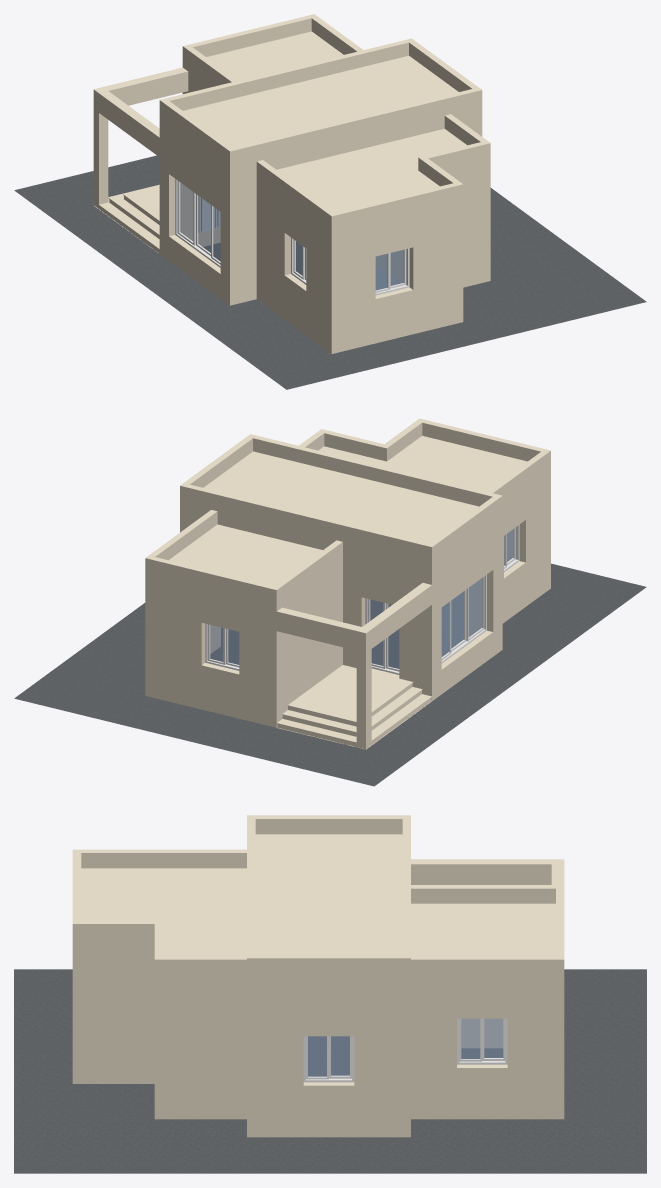
The picture shows the model from 3 angles, top to bottom: view 1: azimuth 30°, elevation 25°; view 2: azimuth 150°, elevation 25°; view 3: azimuth 270°, elevation 25°; orthographic projection. The views are drawn at different scales.
Parts seen in each view (by area): view 1: 5808, Root Node, 9282, 6609, 6202, Component#2, Component#1 (×2), 7992, 7940, 6540, 7525; view 2: 5808, Root Node, 9282, 6609, 6202, Component#2, 7992, Component#1 (×2), 6540, 7940, 7525; view 3: 5808, Root Node, 6609, 9282, Component#1 (×2), 7940.
Boxes of the visible parts, box(x1,y1,x2,y2) form: 5808: box(159, 14, 490, 353); Root Node: box(14, 155, 646, 389); 9282: box(183, 56, 458, 147); 6609: box(206, 31, 466, 212); 6202: box(93, 184, 220, 253); Component#2: box(175, 179, 220, 267); Component#1 (×2): box(291, 237, 409, 295); 7992: box(103, 67, 188, 105); 7940: box(99, 91, 159, 156); 6540: box(93, 87, 108, 204); 7525: box(198, 196, 220, 232); 5808: box(145, 418, 550, 727); Root Node: box(14, 563, 646, 786); 9282: box(203, 451, 478, 542); 6609: box(169, 435, 527, 585); 6202: box(276, 665, 431, 749); Component#2: box(441, 574, 486, 663); 7992: box(276, 607, 361, 650); Component#1 (×2): box(205, 524, 519, 670); 6540: box(356, 627, 371, 744); 7940: box(362, 583, 431, 648); 7525: box(365, 598, 399, 674); 5808: box(72, 815, 564, 1137); Root Node: box(14, 969, 646, 1173); 6609: box(81, 868, 555, 955); 9282: box(255, 834, 402, 954); Component#1 (×2): box(303, 1018, 507, 1082); 7940: box(411, 859, 551, 884).
Bounding box in the file's own units: 11.5 × 4.7 × 15.07.
206 materials, 1 textured.
